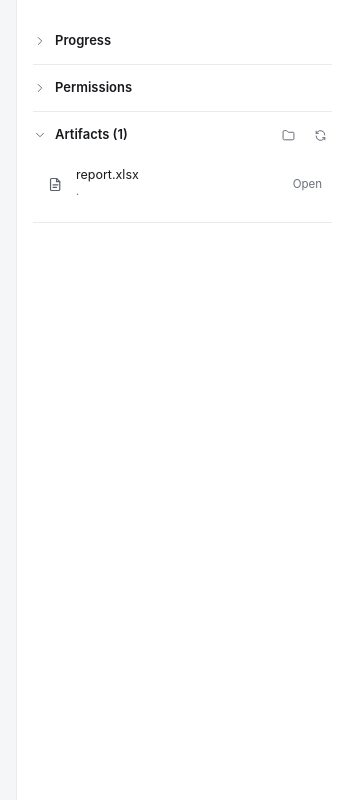
Scenario: SheetViewer renders server-side sheet JSON › renders sheet tabs and grid cells from the JSON payload
What coordinates should you click on to do the following:
click the button "report.xlsx · Open"
I would click on:
 (107, 174)
Its box is left=33, top=157, right=332, bottom=211.
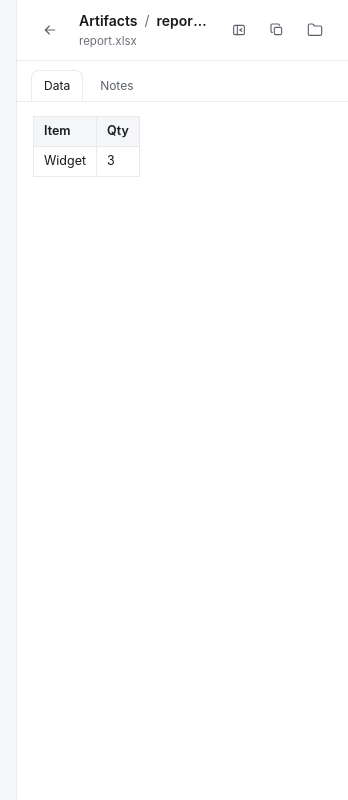
Result: the text "Widget" is shown at left=34, top=146, right=96, bottom=176
Result: the column heading "Item" is shown at left=34, top=117, right=96, bottom=147
What coordinates should you click on to do the following:
click the button "Notes"
I would click on:
 (117, 86)
Its box is left=87, top=70, right=146, bottom=101.
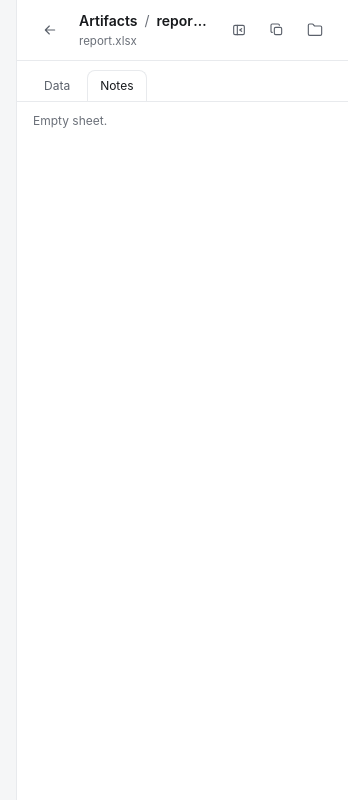
Result: the text "Empty sheet." is shown at left=33, top=113, right=107, bottom=128
What coordinates should you click on to do the following:
click the button "Data"
I would click on:
 (57, 86)
Its box is left=31, top=70, right=83, bottom=101.
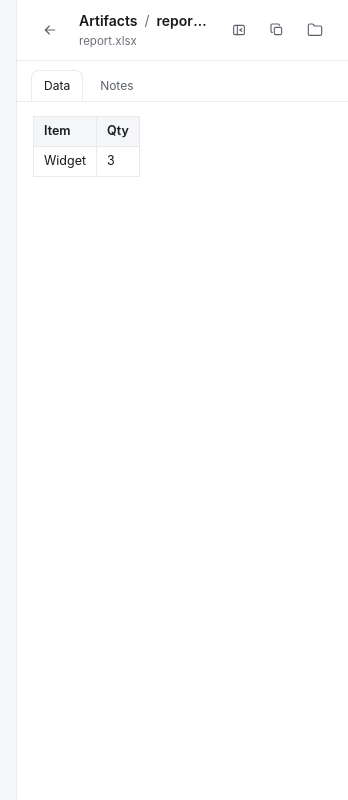
Result: the text "Widget" is shown at left=34, top=146, right=96, bottom=176
